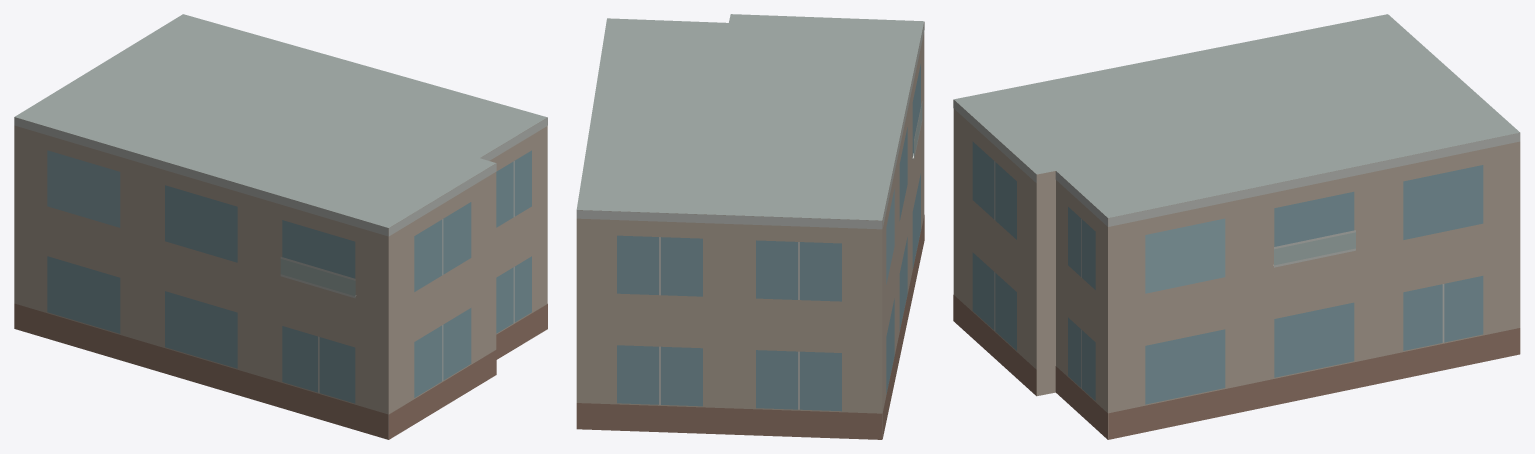
The model's file is survey-upis-32708888.glb.
The picture shows the model from 3 angles, left to right: view 1: azimuth 30°, elevation 25°; view 2: azimuth 150°, elevation 25°; view 3: azimuth 270°, elevation 25°; orthographic projection. The views are drawn at different scales.
Visible parts, largest first — view 1: survey-upis-32708888.tmp; view 2: survey-upis-32708888.tmp; view 3: survey-upis-32708888.tmp.
Part boxes in pixels (x1,y1,x2,y2): survey-upis-32708888.tmp: [14, 14, 547, 439]; survey-upis-32708888.tmp: [576, 14, 924, 439]; survey-upis-32708888.tmp: [953, 14, 1520, 439].
Size of the model in its own units: 12.06 by 6.1 by 14.15.
